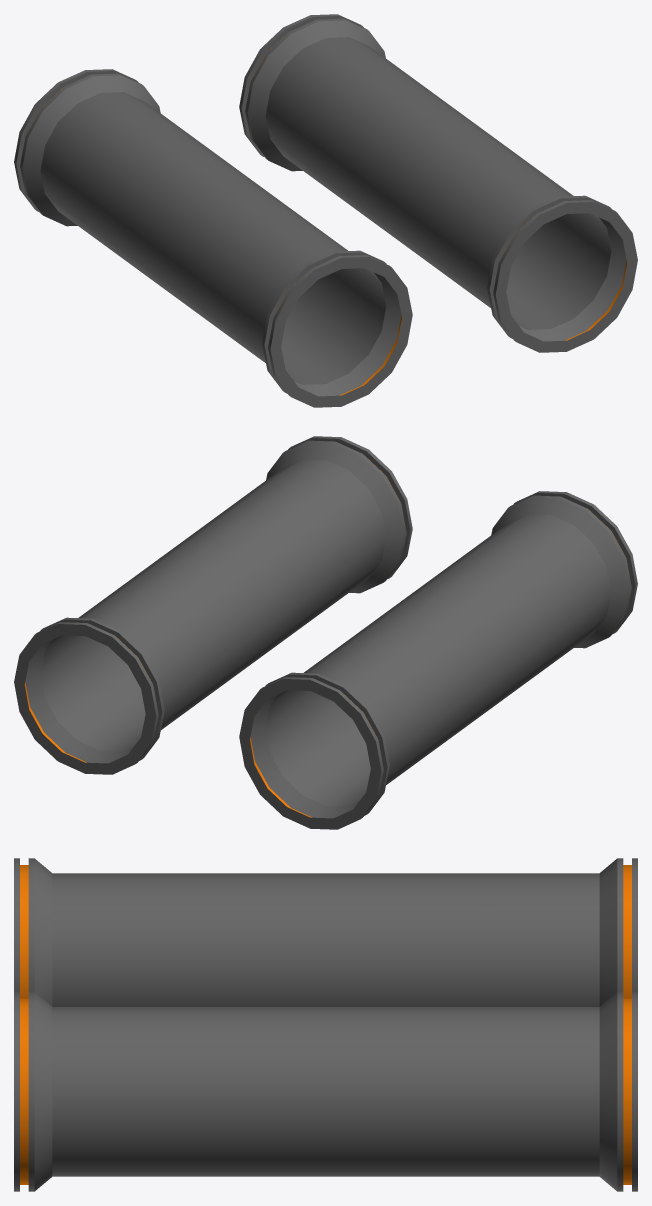
Rendered from Pipe_Double_1.fbx.
The picture shows the model from 3 angles, top to bottom: view 1: azimuth 30°, elevation 25°; view 2: azimuth 150°, elevation 25°; view 3: azimuth 270°, elevation 25°; orthographic projection. The views are drawn at different scales.
Parts seen in each view (by area): view 1: Pipe_Double_1; view 2: Pipe_Double_1; view 3: Pipe_Double_1.
Part boxes in pixels (bbox=[...]): Pipe_Double_1: bbox=[14, 14, 637, 407]; Pipe_Double_1: bbox=[14, 436, 637, 829]; Pipe_Double_1: bbox=[14, 858, 637, 1191].
Bounding box in the file's own units: 163 × 63.29 × 197.
